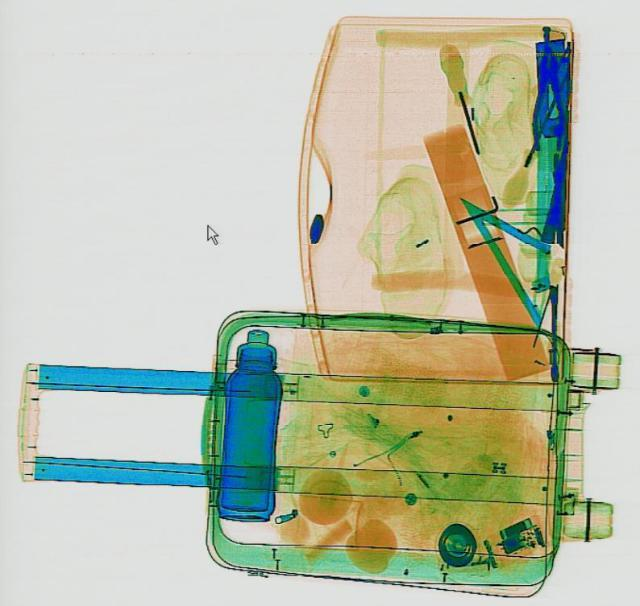Pliers: (532, 45, 564, 151)
